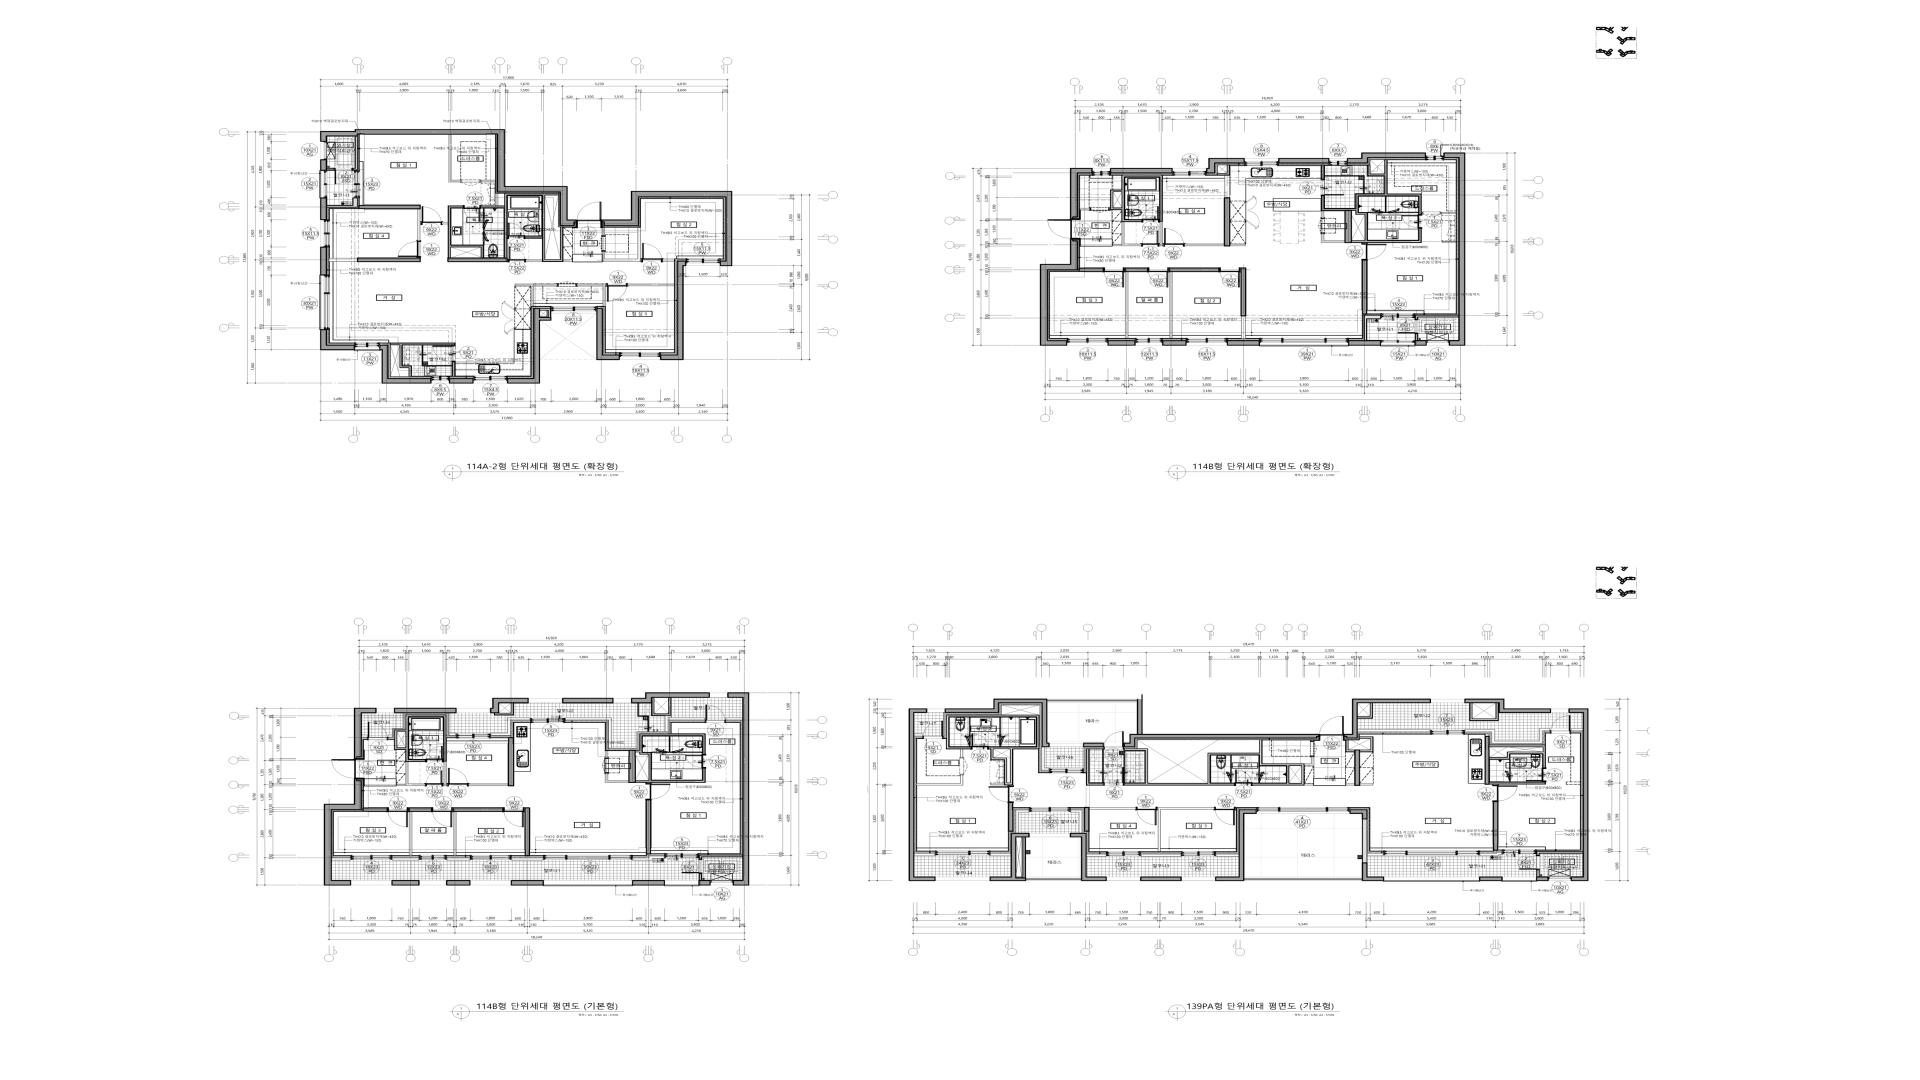door: (331, 758, 364, 779), (1047, 219, 1081, 239), (576, 202, 601, 228), (1319, 716, 1344, 741), (1361, 243, 1387, 261), (431, 807, 454, 828), (502, 807, 525, 827), (386, 807, 409, 827), (1102, 268, 1125, 287), (1147, 268, 1170, 287), (1218, 268, 1241, 287), (1493, 785, 1518, 802), (989, 786, 1014, 803), (645, 783, 670, 800), (641, 243, 662, 262), (447, 767, 468, 787), (367, 721, 388, 741), (605, 284, 628, 302), (1163, 228, 1184, 247), (421, 207, 442, 225), (1215, 807, 1236, 825), (1137, 807, 1158, 825), (1321, 179, 1344, 196), (1104, 732, 1124, 750), (1104, 767, 1124, 786), (923, 721, 943, 740), (1551, 715, 1571, 733), (705, 704, 725, 723), (433, 345, 455, 361), (398, 241, 421, 257), (682, 858, 703, 874), (1519, 855, 1540, 870), (971, 733, 989, 750), (1398, 319, 1419, 334), (686, 754, 707, 769), (1526, 767, 1547, 782), (1142, 206, 1159, 223), (335, 167, 352, 185), (508, 247, 526, 262), (463, 206, 481, 222), (1234, 770, 1253, 786), (1402, 215, 1423, 228), (1142, 231, 1159, 247), (508, 223, 525, 239), (426, 746, 443, 762), (426, 771, 443, 787), (460, 179, 481, 186), (960, 760, 968, 774), (601, 758, 609, 773), (1091, 207, 1110, 212), (1319, 218, 1325, 233), (1423, 212, 1441, 218), (558, 281, 576, 286)
wall: (320, 129, 576, 225), (601, 191, 732, 266), (1124, 699, 1319, 748), (1124, 740, 1313, 786), (1321, 160, 1422, 243), (945, 715, 1039, 786), (481, 194, 572, 262), (944, 699, 1050, 748), (909, 708, 935, 881), (728, 692, 749, 886), (323, 779, 361, 886), (1444, 153, 1465, 345), (1040, 239, 1077, 345), (394, 715, 447, 786), (1110, 175, 1163, 247), (636, 733, 705, 783), (1344, 699, 1431, 738), (1569, 708, 1589, 881), (506, 309, 551, 384), (1216, 810, 1257, 881), (659, 261, 686, 360), (1158, 807, 1215, 852), (390, 343, 455, 377), (442, 206, 484, 257), (380, 345, 431, 384), (989, 833, 1030, 881), (651, 698, 705, 732), (1069, 833, 1106, 881), (564, 717, 612, 749), (1465, 728, 1551, 744), (603, 228, 641, 262), (1465, 699, 1551, 713), (1490, 745, 1545, 767), (596, 309, 620, 360), (1069, 167, 1093, 219), (353, 708, 376, 758), (514, 284, 558, 306), (1362, 820, 1383, 862), (630, 692, 709, 703), (1348, 153, 1425, 164), (491, 717, 530, 736), (320, 330, 355, 351), (576, 284, 605, 306), (1087, 749, 1104, 786), (489, 698, 529, 713), (1207, 158, 1245, 174), (448, 135, 460, 182), (1469, 703, 1499, 721), (916, 774, 963, 786), (1245, 877, 1362, 881), (1217, 165, 1230, 198), (1364, 315, 1381, 340), (1362, 862, 1385, 881), (1110, 167, 1172, 174), (1047, 699, 1137, 703), (357, 257, 421, 262), (359, 204, 421, 210), (394, 708, 456, 713), (508, 737, 514, 786), (1493, 802, 1499, 851), (1224, 198, 1230, 247), (447, 257, 508, 262), (1015, 810, 1029, 833), (646, 800, 651, 855), (1362, 261, 1367, 315), (1071, 810, 1083, 833), (327, 198, 357, 207), (562, 698, 613, 703), (1278, 158, 1329, 164), (495, 703, 514, 716), (1125, 272, 1129, 338), (525, 807, 530, 856), (454, 807, 502, 812), (1485, 736, 1490, 785), (1241, 268, 1246, 316), (1360, 737, 1374, 753), (1358, 703, 1373, 719), (1026, 877, 1081, 881), (1321, 233, 1345, 243), (629, 750, 636, 783), (632, 880, 665, 886), (1345, 211, 1352, 243), (605, 774, 628, 783), (1354, 749, 1360, 786), (1170, 268, 1218, 272), (320, 247, 327, 276), (1007, 803, 1014, 832), (1358, 729, 1431, 732), (1536, 851, 1582, 855), (392, 880, 419, 886), (1042, 748, 1050, 770), (510, 881, 543, 886), (352, 137, 357, 170), (1170, 272, 1172, 338), (1348, 340, 1381, 345), (1228, 340, 1261, 345), (699, 855, 742, 858), (409, 812, 413, 856), (1415, 315, 1458, 319), (1349, 810, 1367, 819), (633, 856, 665, 861), (1141, 877, 1182, 881), (320, 198, 327, 220), (1490, 782, 1545, 785), (1108, 340, 1135, 345), (448, 378, 473, 384), (446, 881, 471, 886), (1084, 807, 1089, 832), (1162, 340, 1187, 345), (1089, 807, 1137, 810), (363, 807, 386, 812), (1345, 740, 1354, 753), (628, 284, 674, 286), (409, 807, 431, 812), (1241, 316, 1246, 339), (454, 812, 456, 856), (328, 258, 357, 262), (1083, 742, 1104, 748), (1141, 855, 1182, 857), (468, 783, 508, 786), (1023, 837, 1026, 877), (1184, 244, 1224, 247), (1079, 268, 1102, 272), (1480, 877, 1503, 881), (1125, 268, 1147, 272), (1480, 852, 1502, 856), (512, 858, 543, 861), (541, 309, 551, 316), (418, 210, 421, 241), (320, 160, 327, 171), (699, 880, 711, 886), (451, 363, 456, 377), (392, 858, 419, 861), (1415, 340, 1427, 345), (1216, 855, 1238, 857), (447, 858, 469, 861), (1321, 165, 1325, 179), (914, 853, 935, 856), (1536, 877, 1549, 881), (1087, 855, 1106, 857), (990, 853, 1010, 856), (332, 858, 351, 861), (662, 258, 674, 262), (725, 717, 742, 720), (1469, 782, 1485, 785), (1230, 244, 1246, 247), (1361, 783, 1373, 786), (1571, 728, 1582, 731), (496, 194, 498, 206), (1536, 870, 1540, 877), (1415, 334, 1419, 340), (914, 733, 923, 736), (514, 785, 530, 786), (1346, 783, 1354, 786), (699, 874, 703, 880), (603, 228, 605, 236), (481, 181, 496, 182), (1441, 212, 1456, 214), (450, 733, 456, 736), (605, 752, 608, 758), (327, 167, 334, 170), (1443, 241, 1456, 243), (361, 735, 367, 737), (388, 735, 393, 737), (1080, 208, 1089, 210), (1485, 735, 1489, 736)
window: (1261, 338, 1348, 347), (1257, 807, 1349, 814), (319, 276, 330, 330), (1383, 851, 1480, 856), (1385, 877, 1480, 882), (543, 855, 633, 860), (545, 881, 632, 886), (551, 306, 596, 314), (1067, 338, 1108, 345), (1187, 338, 1226, 345), (620, 352, 659, 360), (935, 851, 990, 856), (686, 258, 720, 266), (1245, 158, 1278, 166), (473, 376, 506, 384), (320, 220, 330, 247), (1172, 169, 1207, 175), (1381, 340, 1415, 347), (469, 855, 512, 860), (352, 170, 360, 198), (1030, 807, 1071, 812), (351, 855, 392, 860), (1135, 338, 1162, 345), (319, 171, 327, 198), (936, 877, 989, 881), (355, 343, 380, 351), (1381, 314, 1415, 319), (1502, 849, 1536, 855), (665, 881, 699, 886), (665, 853, 699, 858), (456, 733, 491, 738), (1503, 877, 1536, 882), (456, 708, 489, 713), (351, 881, 392, 885), (1030, 833, 1069, 837), (471, 881, 510, 885), (1329, 158, 1348, 166), (419, 855, 447, 860), (1427, 153, 1444, 161), (431, 376, 448, 384), (1431, 699, 1465, 703), (1050, 769, 1084, 773), (1431, 731, 1465, 735), (1182, 852, 1216, 856), (1106, 852, 1141, 856), (1182, 877, 1216, 881), (1106, 877, 1141, 881), (530, 719, 564, 723), (529, 699, 562, 703), (1427, 340, 1449, 345), (711, 880, 733, 885), (1093, 169, 1110, 175), (320, 142, 327, 160), (419, 881, 446, 885), (709, 692, 727, 698), (377, 708, 394, 713), (1050, 744, 1083, 746), (1549, 877, 1571, 881), (613, 699, 630, 703), (1551, 709, 1569, 712), (927, 709, 944, 712)
